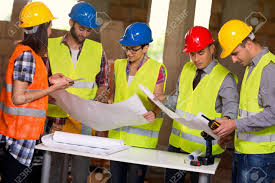helmet: (217, 18, 253, 54), (19, 1, 55, 24), (120, 22, 153, 47), (70, 2, 99, 28), (183, 26, 212, 51)
vest: (113, 59, 162, 145), (50, 38, 103, 117), (178, 69, 226, 156), (4, 49, 49, 140), (242, 70, 275, 154)
